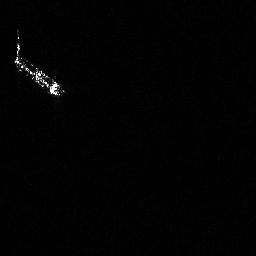ship: (11, 28, 68, 97)
